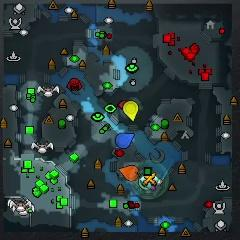p1: (116, 133, 134, 148)
p2: (138, 174, 159, 190)
p3: (149, 185, 156, 191)
p4: (124, 101, 139, 120)
p5: (120, 164, 140, 182)
